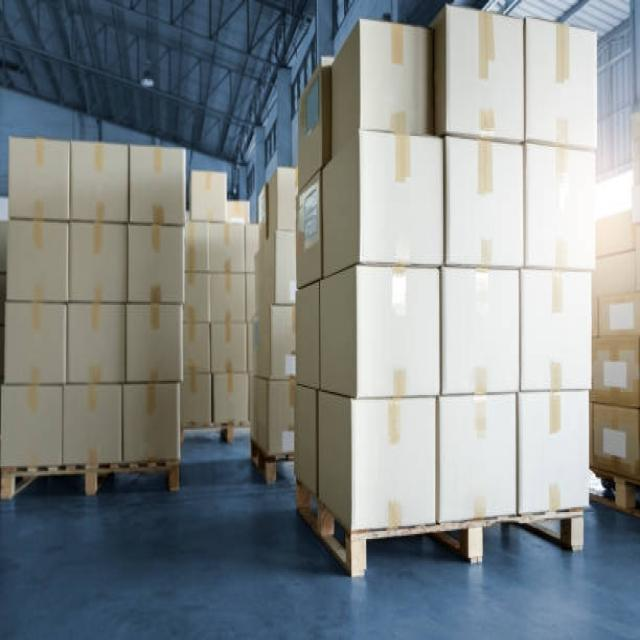Wooden-Pallets: (284, 473, 587, 580), (0, 453, 184, 513)
